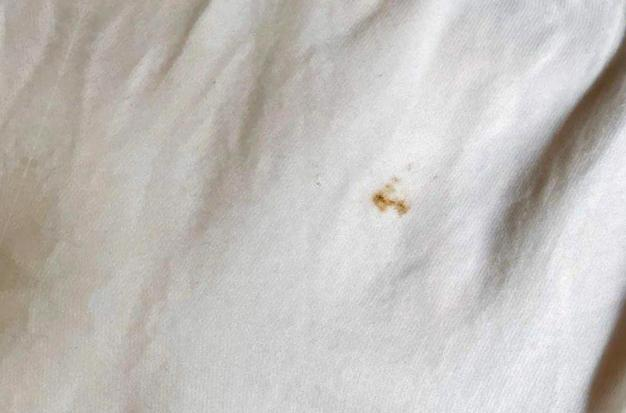stain: (367, 170, 413, 218)
